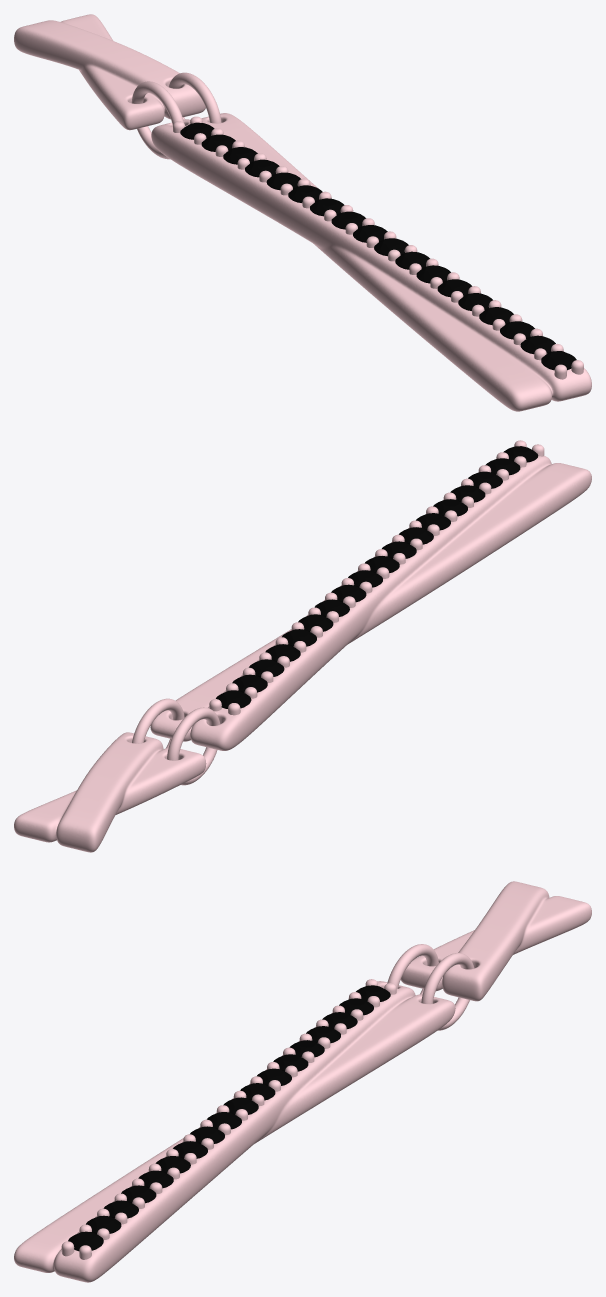
3 renders of one model, top to bottom at view 1: azimuth 30°, elevation 25°; view 2: azimuth 150°, elevation 25°; view 3: azimuth 330°, elevation 25°, orthographic.
Visible parts, largest first — view 1: SIXTEEENFIFTYNINENINEXESYSHI-Render-Ijewel.3dm; view 2: SIXTEEENFIFTYNINENINEXESYSHI-Render-Ijewel.3dm; view 3: SIXTEEENFIFTYNINENINEXESYSHI-Render-Ijewel.3dm.
Boxes of the visible parts, box(x1,y1,x2,y2) form: SIXTEEENFIFTYNINENINEXESYSHI-Render-Ijewel.3dm: box(14, 14, 591, 411); SIXTEEENFIFTYNINENINEXESYSHI-Render-Ijewel.3dm: box(14, 440, 591, 852); SIXTEEENFIFTYNINENINEXESYSHI-Render-Ijewel.3dm: box(14, 881, 591, 1282).
Size of the model in its own units: 0.3761 by 0.3005 by 3.97.
